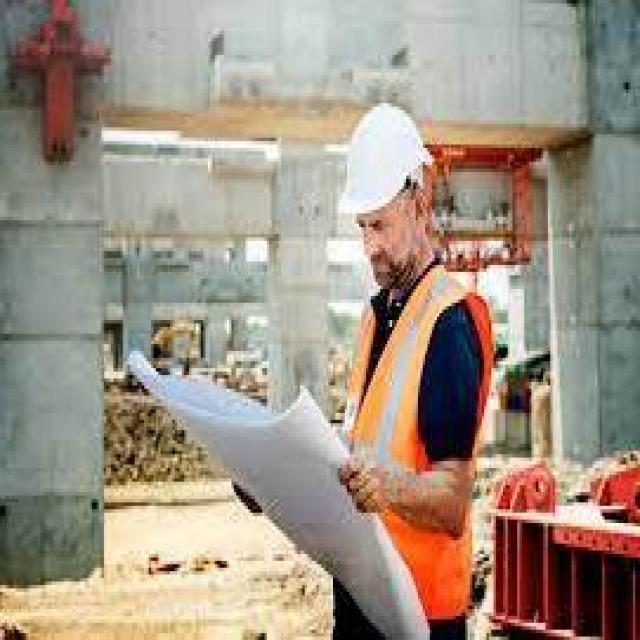Reflective-Jacket: (326, 258, 508, 640)
Safety-Helmet: (324, 90, 446, 230)
